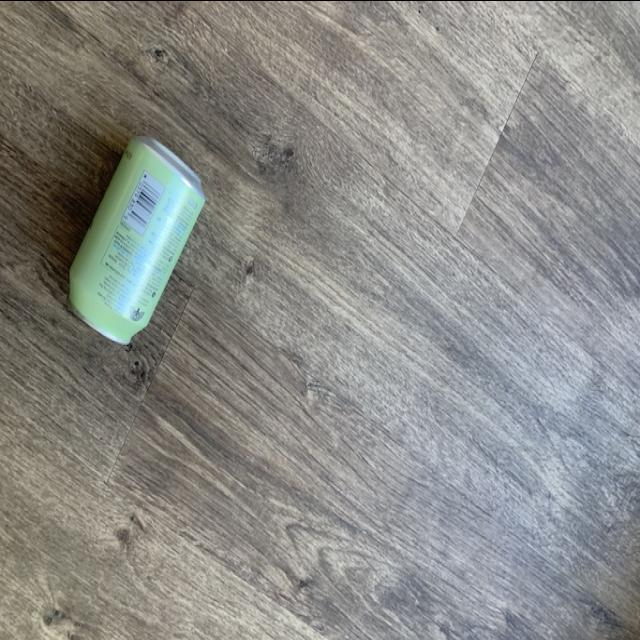Aluminum Can: (64, 119, 216, 359)
